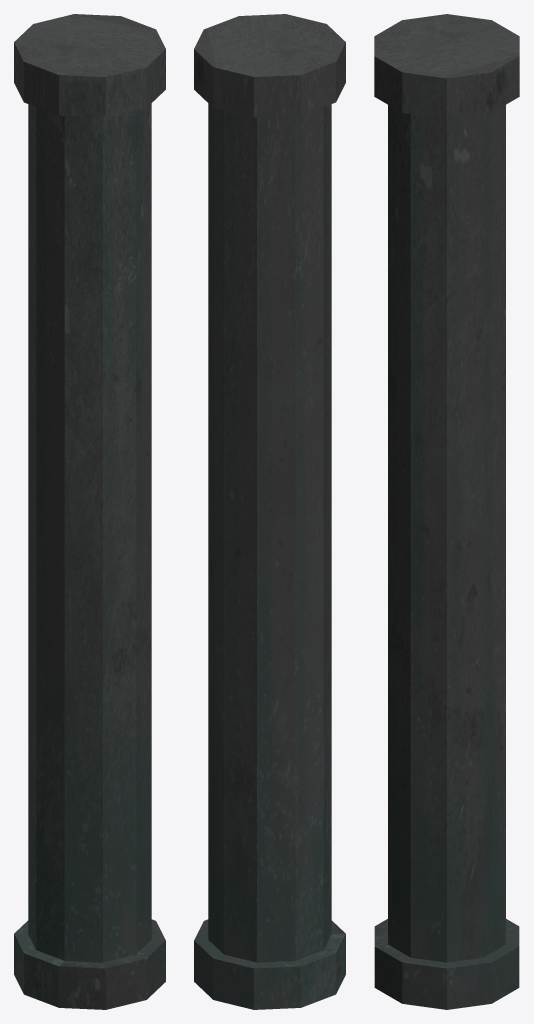
File: Pipe Straight Small.fbx
3 renders of one model, left to right at view 1: azimuth 30°, elevation 25°; view 2: azimuth 150°, elevation 25°; view 3: azimuth 270°, elevation 25°, orthographic.
Visible parts, largest first — view 1: Straight_S; view 2: Straight_S; view 3: Straight_S.
Boxes of the visible parts, x1,y1,x2,y2 form: Straight_S: [14, 14, 165, 1009]; Straight_S: [194, 14, 345, 1009]; Straight_S: [374, 14, 519, 1009].
Bounding box in the file's own units: 1.37 × 9.22 × 1.3.
1 material, 1 textured.
